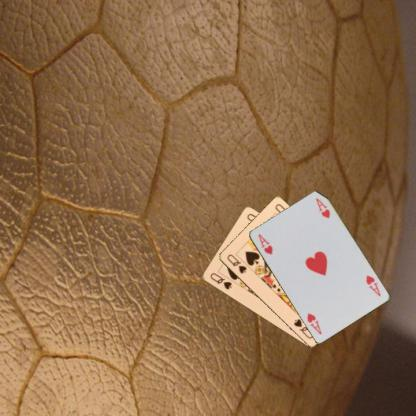Ah: (255, 232, 275, 256), (363, 272, 381, 298)
Qs: (207, 270, 233, 291), (224, 252, 248, 274)
